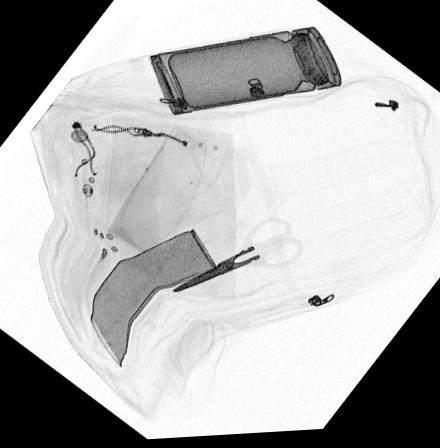Scissors: (168, 216, 305, 295)
